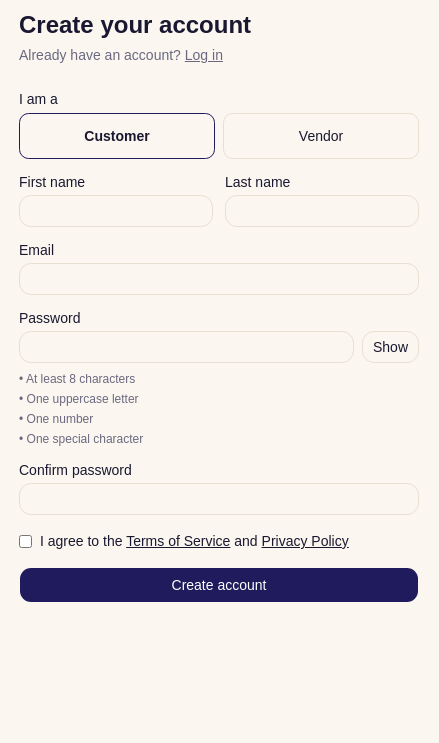
Test: SignupPage › blocks an empty submit and sends no request
Click the button "Create account": click(219, 585) [19,567,419,603]
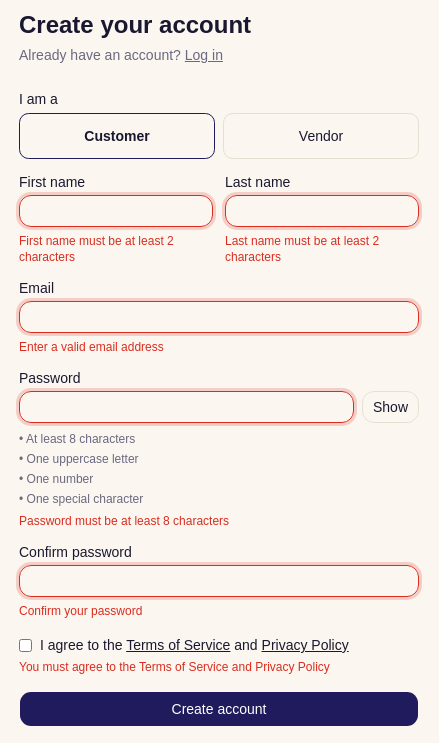
Expected: the text "You must agree to the Terms of Service and Privacy Policy" is shown, [19,660,330,674]
